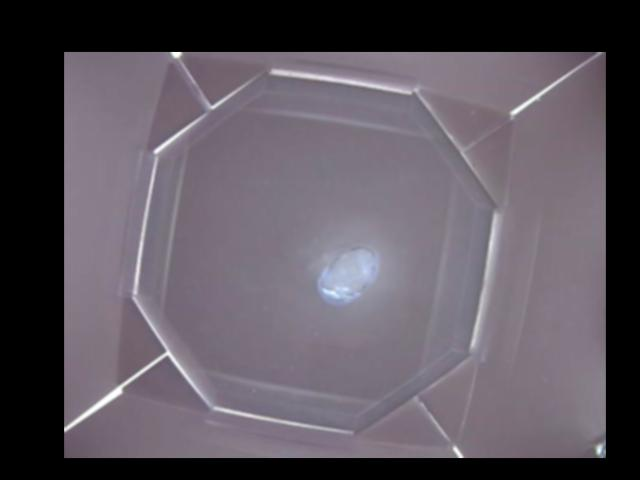Pebble: (318, 244, 383, 308)
